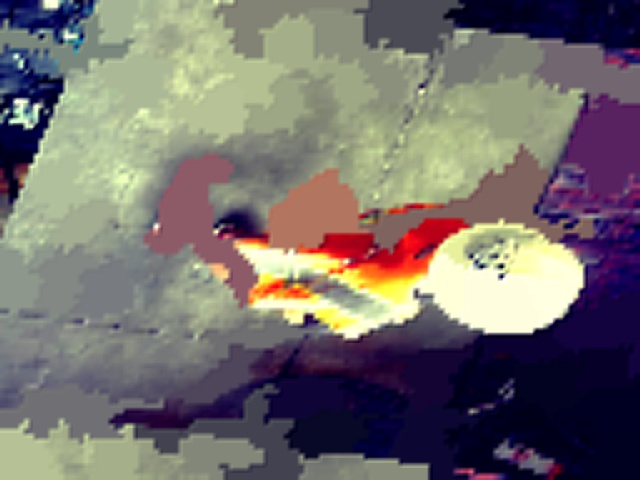eight: (459, 236, 528, 287)
